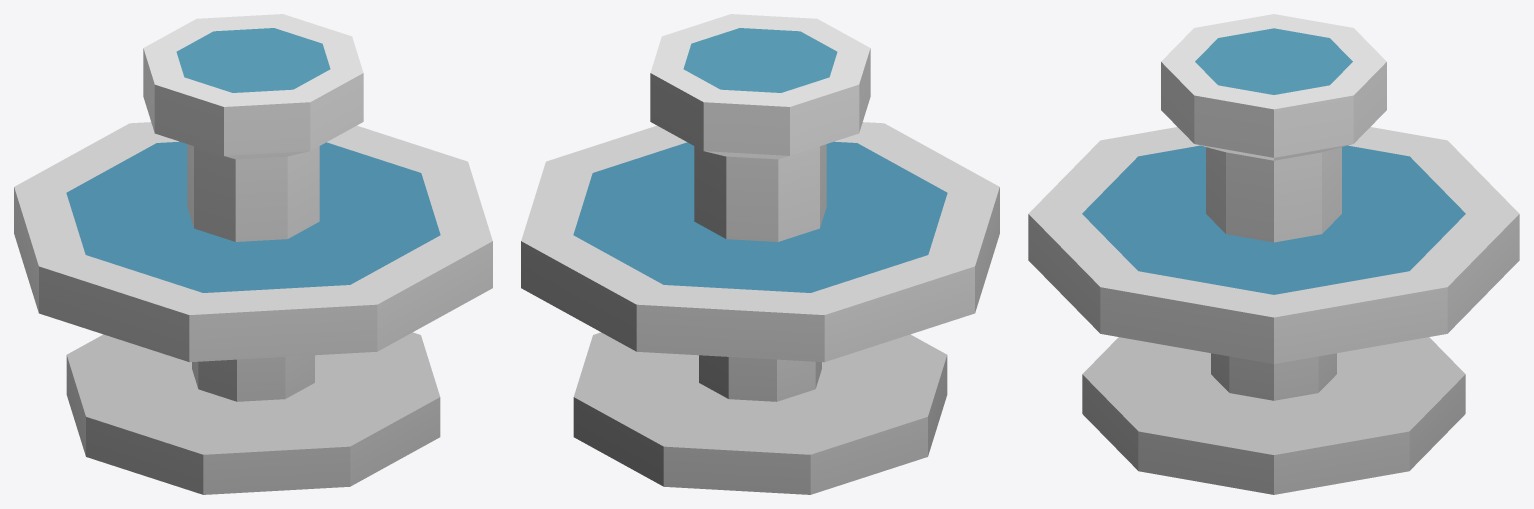
File: fountain.fbx
3 views of the same model, side by side, from view 1: azimuth 30°, elevation 25°; view 2: azimuth 150°, elevation 25°; view 3: azimuth 270°, elevation 25° (orthographic).
Visible parts, largest first — view 1: fountain; view 2: fountain; view 3: fountain.
Boxes of the visible parts, bbox=[...] form: fountain: bbox=[14, 14, 492, 494]; fountain: bbox=[521, 14, 999, 494]; fountain: bbox=[1028, 14, 1519, 494].
Bounding box in the file's own units: 315 × 249 × 315.
Materials: 1 (1 with a texture image).
